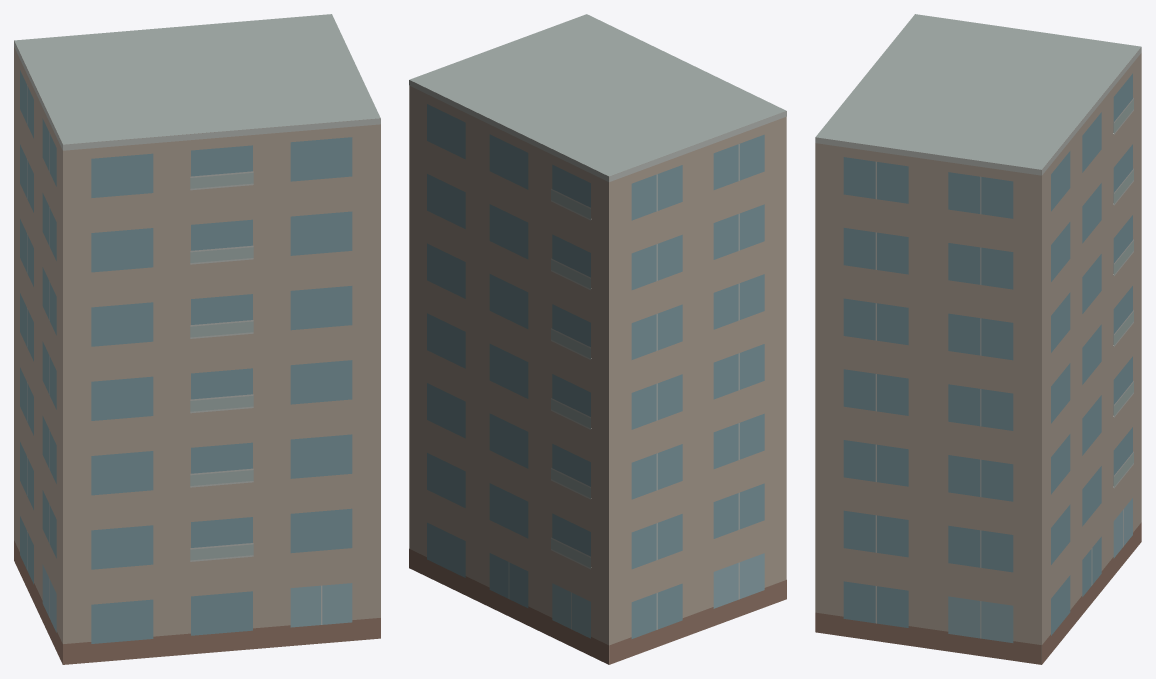
The model's file is survey-upis-32537533.glb.
3 views of the same model, side by side, from view 1: azimuth 30°, elevation 25°; view 2: azimuth 150°, elevation 25°; view 3: azimuth 270°, elevation 25° (orthographic). The views are drawn at different scales.
Visible parts, largest first — view 1: survey-upis-32537533.tmp; view 2: survey-upis-32537533.tmp; view 3: survey-upis-32537533.tmp.
Part boxes in pixels (x1,y1,x2,y2): survey-upis-32537533.tmp: (14,14,380,664); survey-upis-32537533.tmp: (409,14,786,664); survey-upis-32537533.tmp: (815,14,1141,664).
Size of the model in its own units: 14.05 by 20.8 by 12.44.
